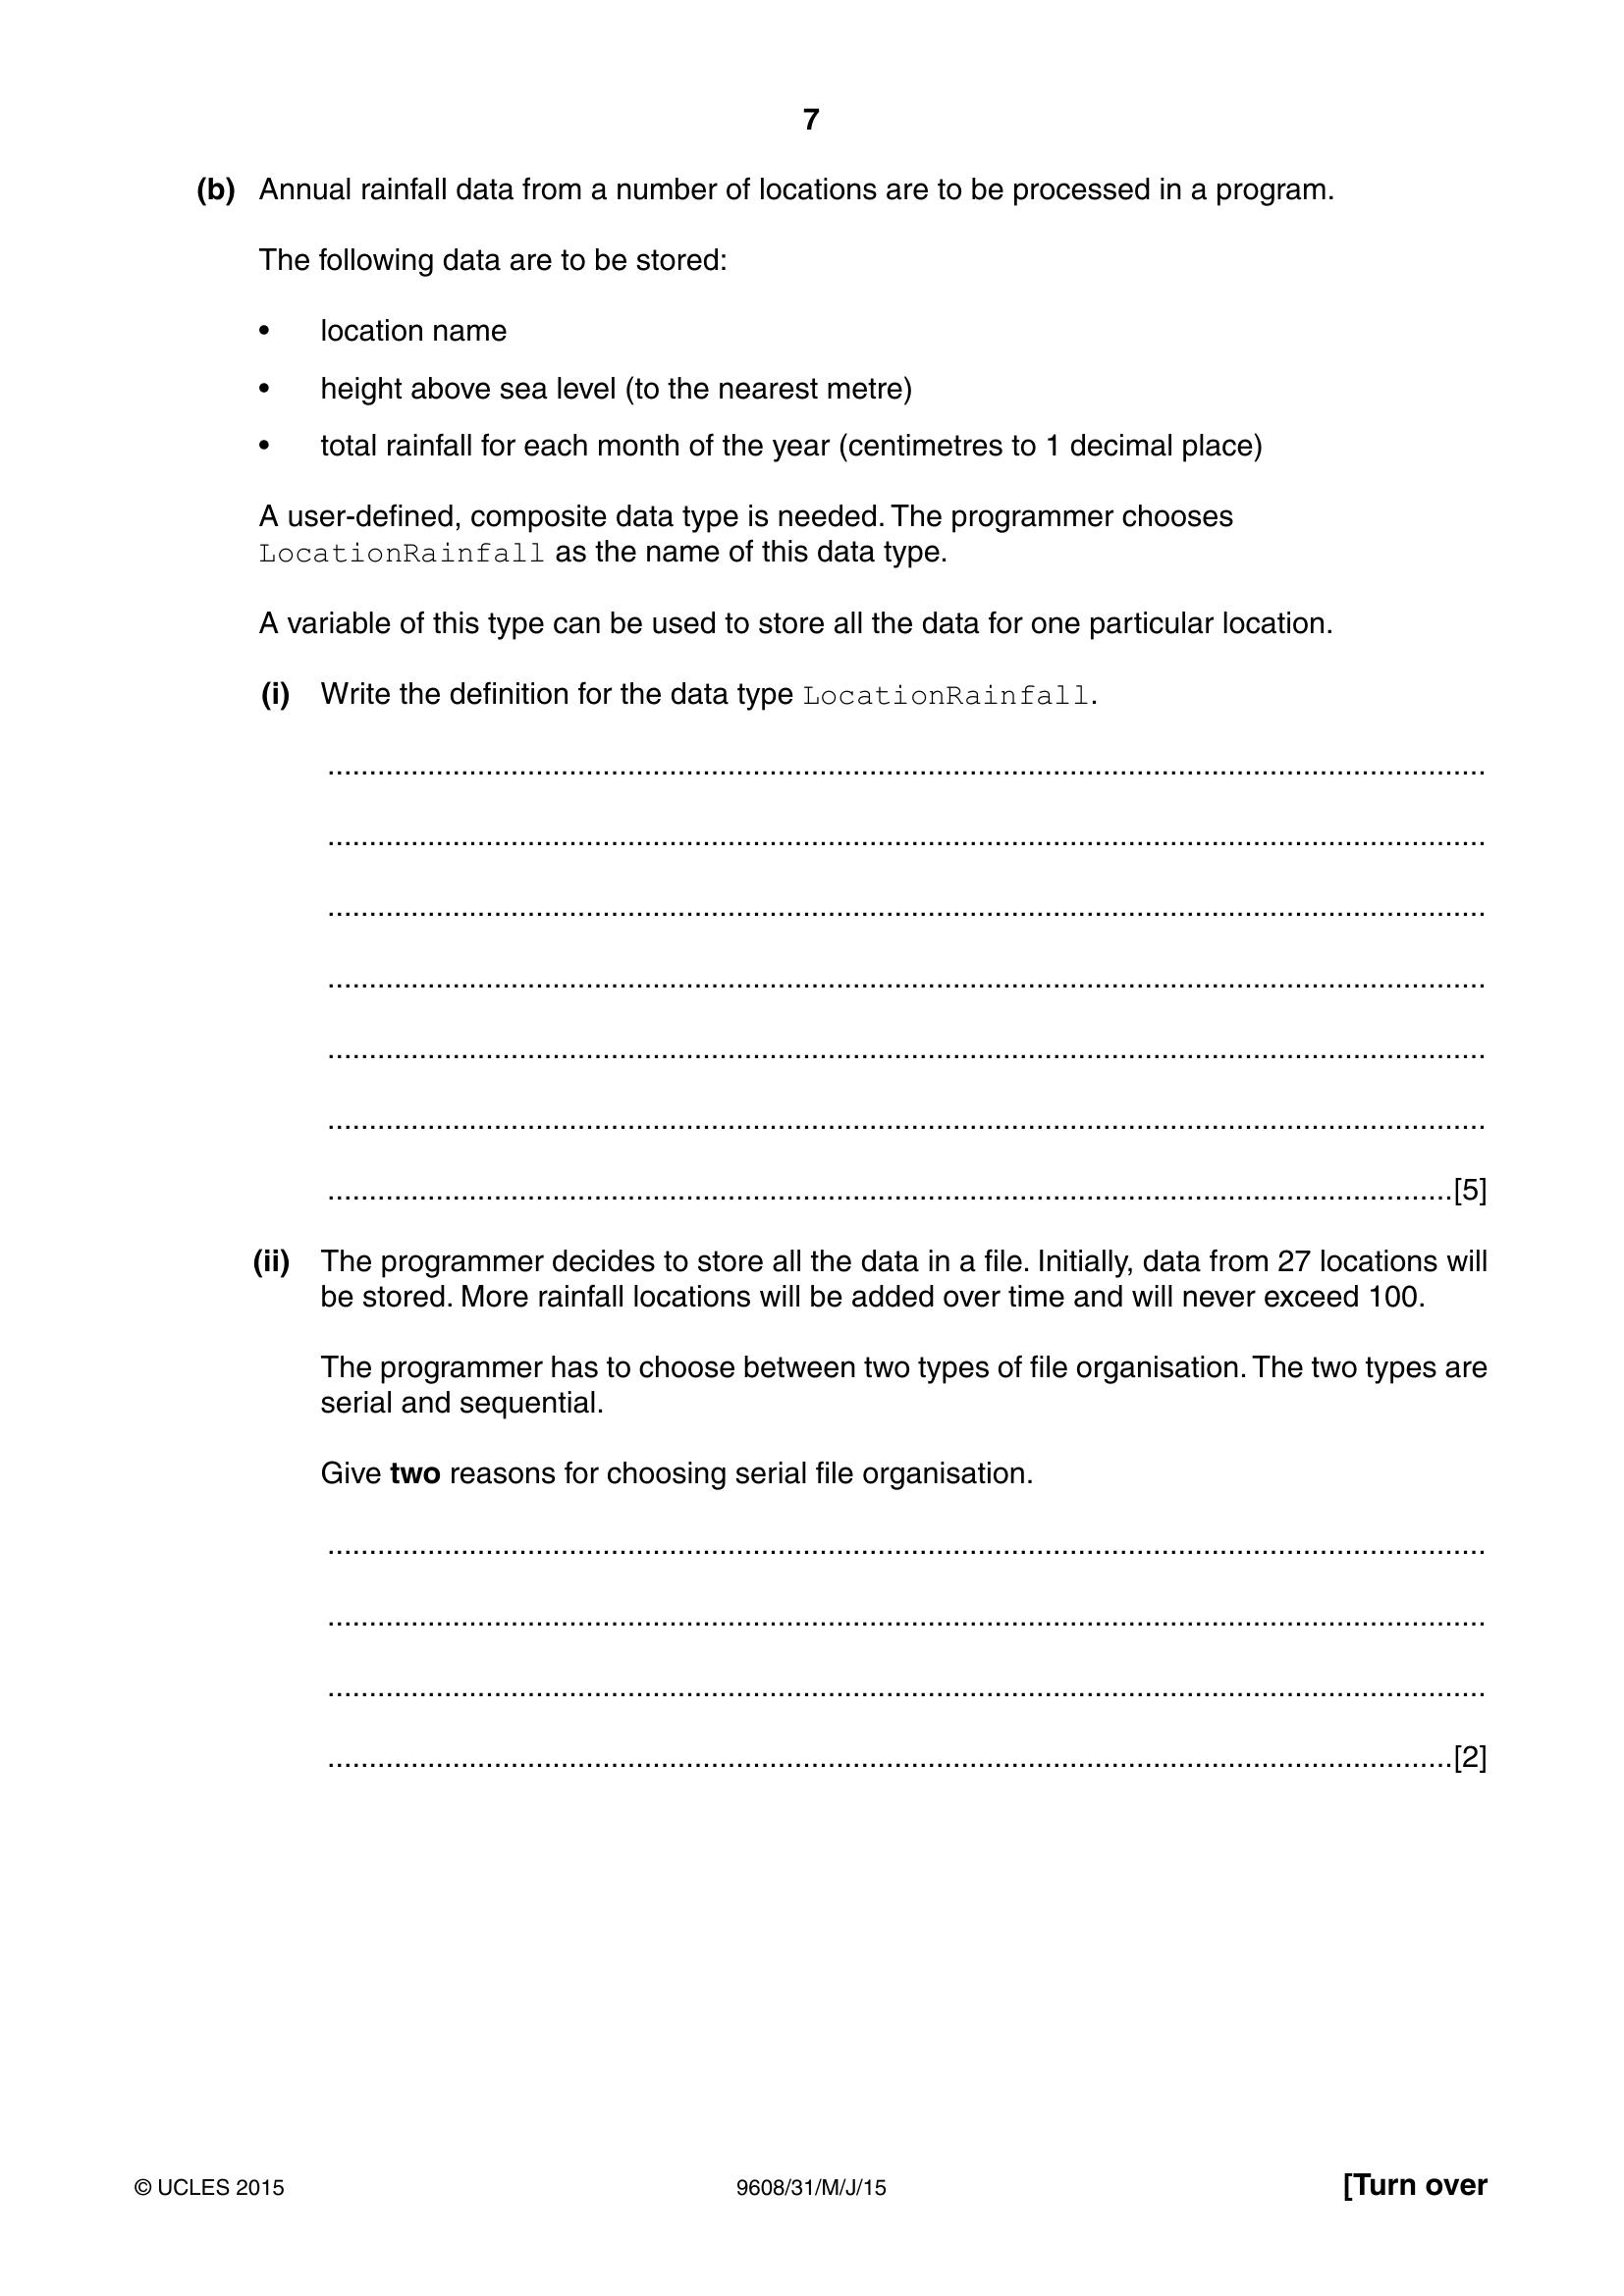continued question: (11, 160, 1624, 1841)
